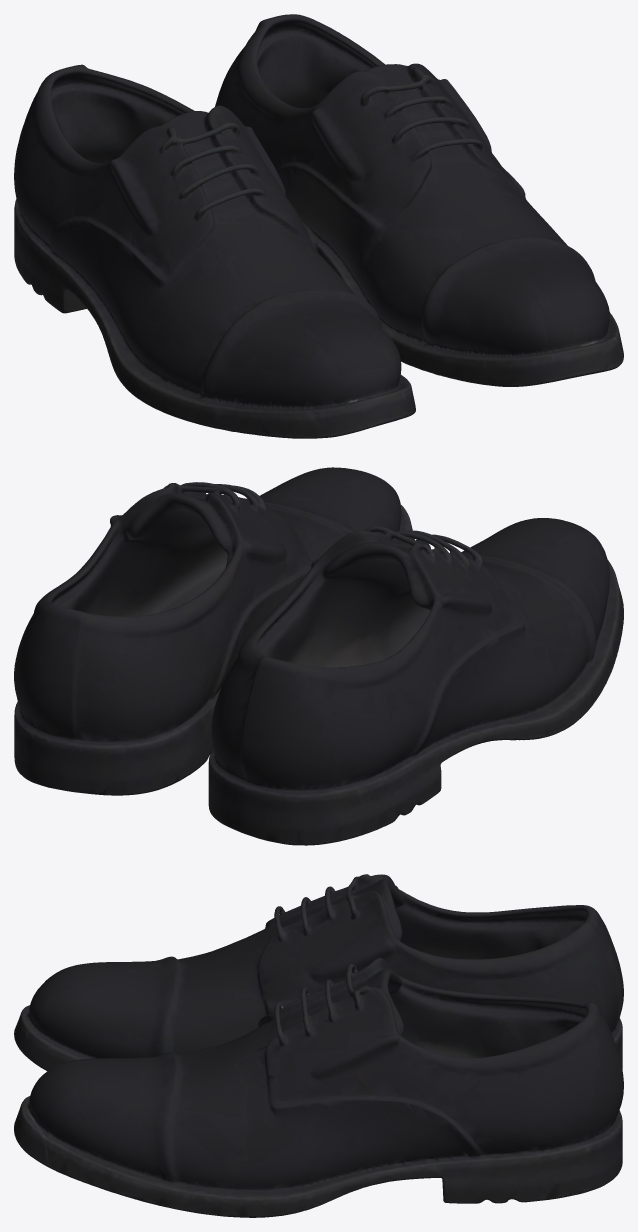
The model's file is fermo.glb.
The picture shows the model from 3 angles, top to bottom: view 1: azimuth 30°, elevation 25°; view 2: azimuth 150°, elevation 25°; view 3: azimuth 270°, elevation 25°; orthographic projection. The views are drawn at different scales.
Size of the model in its own units: 1.47 by 0.6658 by 1.9.
1 material, 1 textured.
